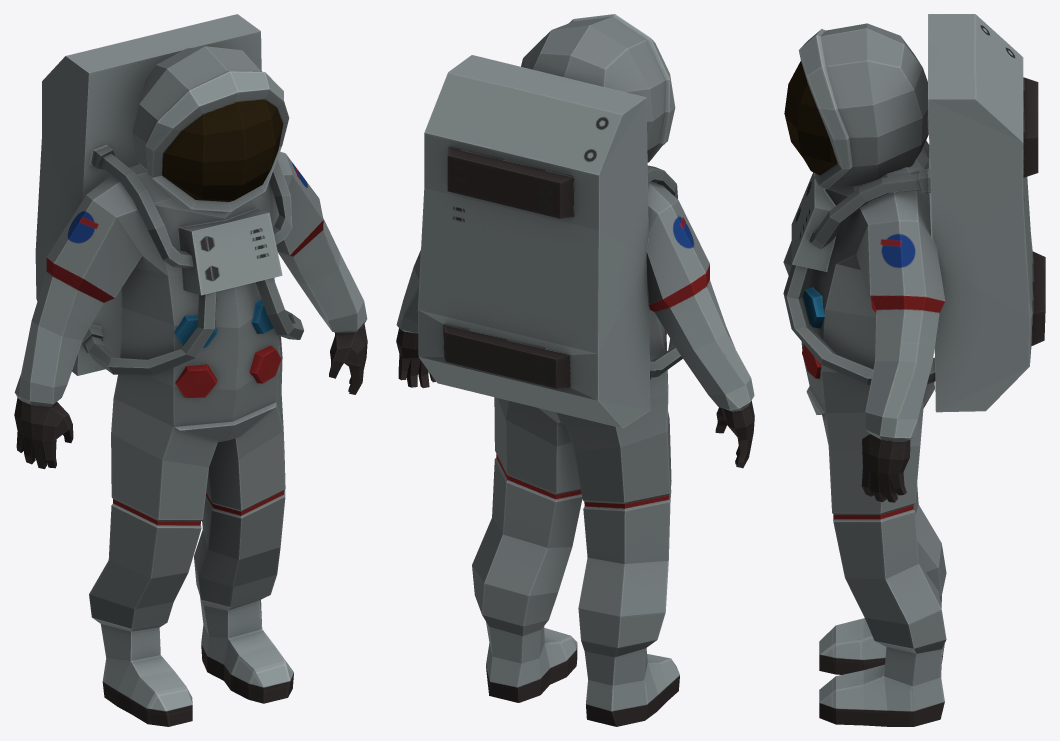
3 views of the same model, side by side, from view 1: azimuth 30°, elevation 25°; view 2: azimuth 150°, elevation 25°; view 3: azimuth 270°, elevation 25° (orthographic).
Visible parts, largest first — view 1: Astronautglb; view 2: Astronautglb; view 3: Astronautglb.
Boxes of the visible parts, bbox=[...] form: Astronautglb: bbox=[14, 14, 367, 726]; Astronautglb: bbox=[396, 14, 754, 726]; Astronautglb: bbox=[783, 14, 1045, 726].
Bounding box in the file's own units: 1.12 × 2.01 × 0.7235.
Materials: 1 (1 with a texture image).
